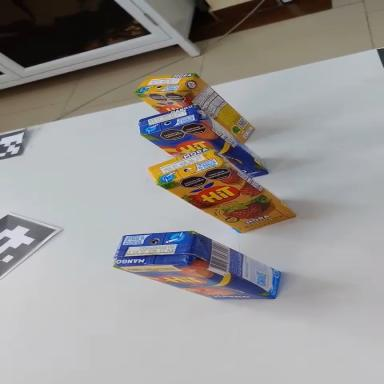HIT-MANGO: (110, 218, 285, 310), (133, 92, 281, 185)
HIT-MORA: (143, 125, 302, 258), (130, 54, 265, 151)
cara_F: (158, 140, 298, 261), (114, 240, 276, 326), (138, 107, 278, 183), (133, 90, 189, 115)
